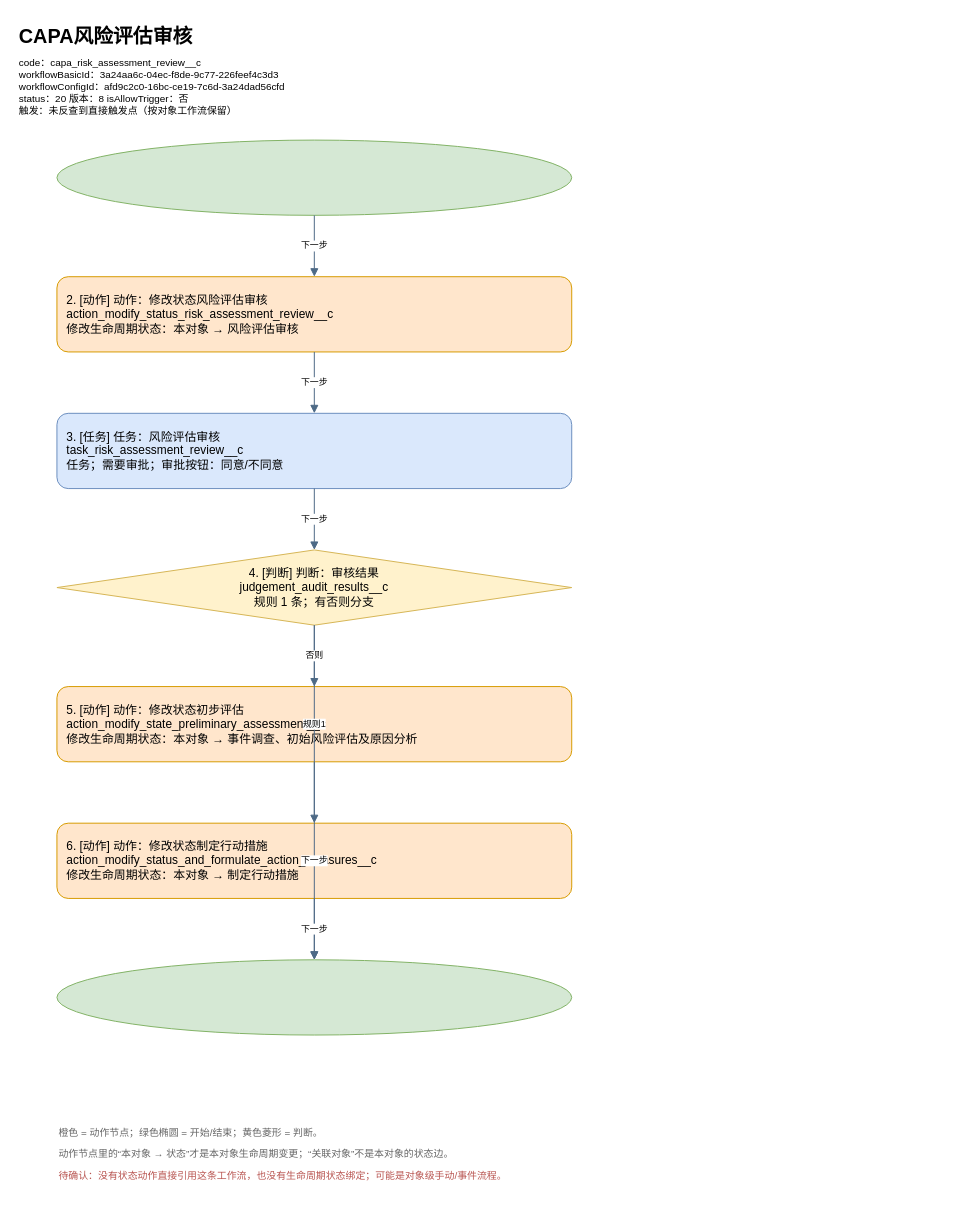
The diagram is 964 pixels wide and 1224 high, and some of its shapes have lost their labels. Each missing label, with the box of its shape:
1. [开始] 开始 capa_risk_assessment_review_Start__c: (56, 139, 572, 215)
7. [结束] 结束 capa_risk_assessment_review_End__c: (56, 959, 572, 1035)
